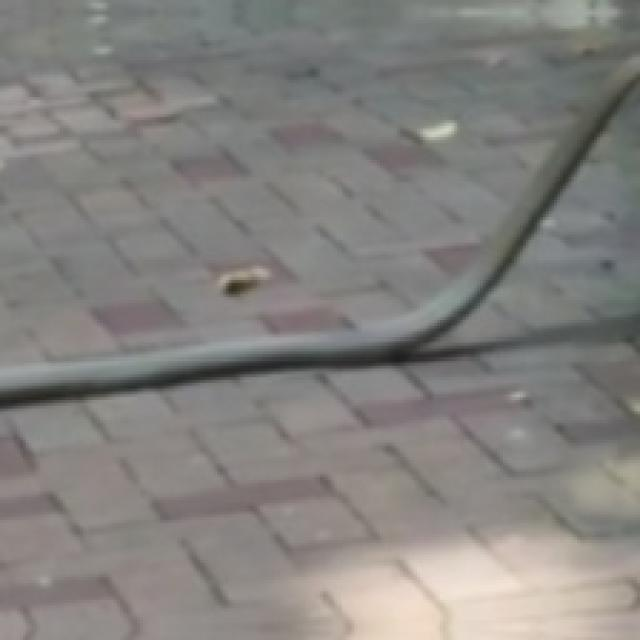king cobra: (0, 3, 637, 400)
